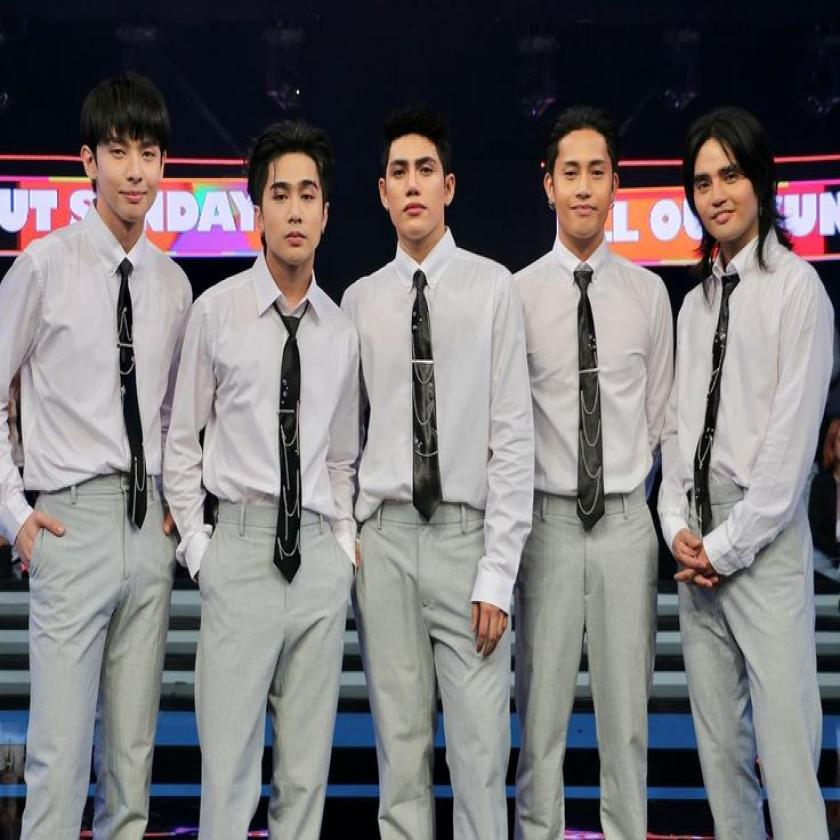Sin_casco: (83, 63, 177, 240), (681, 99, 783, 261), (249, 123, 334, 298), (375, 104, 461, 260), (543, 108, 621, 268)
